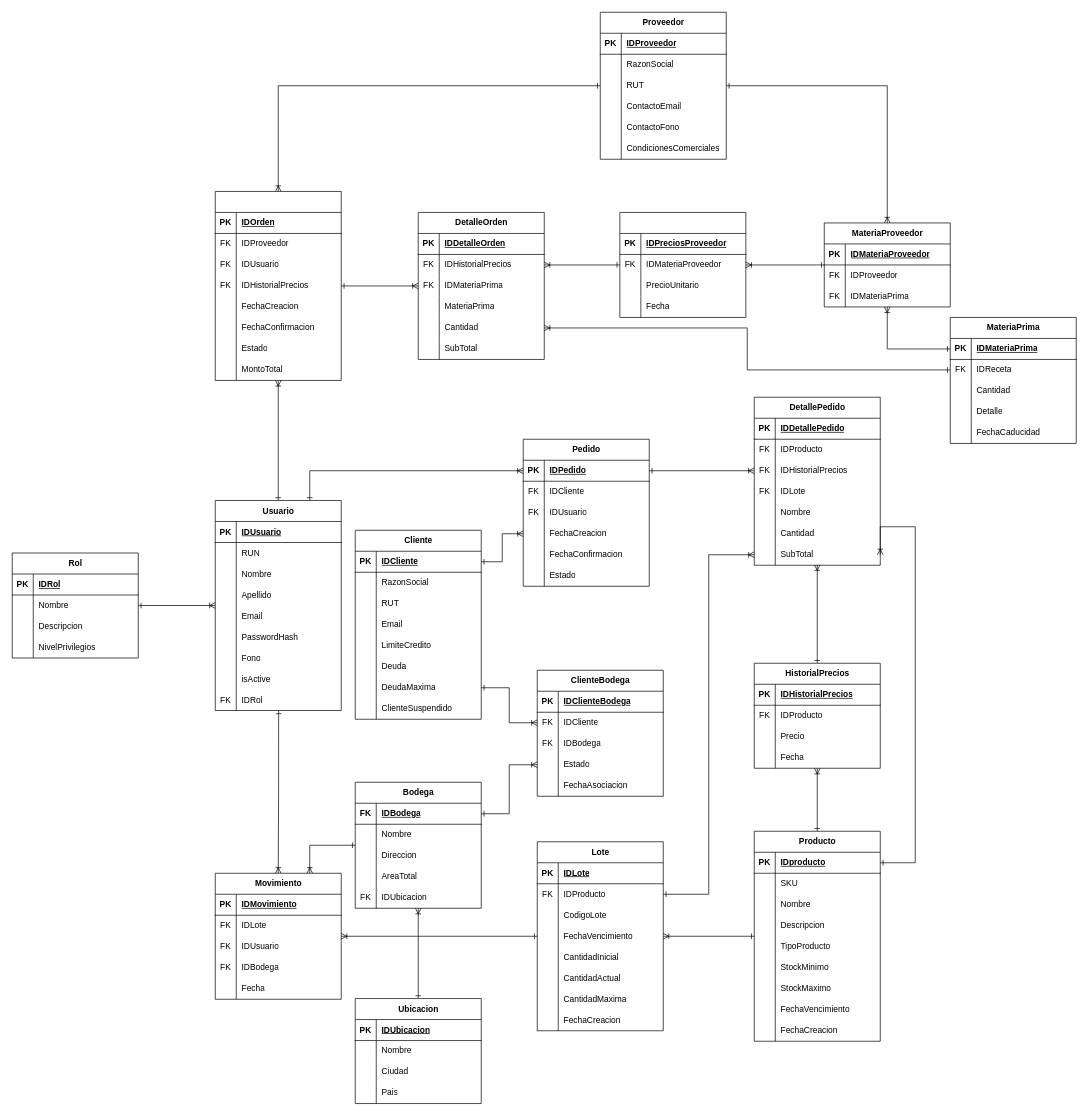
The diagram is 1089 pixels wide and 1116 high, and some of its shapes have lost their labels. The box of each missing label's shape, as (x1, y1, x2, y2) in pixels:
HistorialPreciosProveedor: (619, 212, 746, 317)
OrdenCompra: (215, 191, 341, 380)
